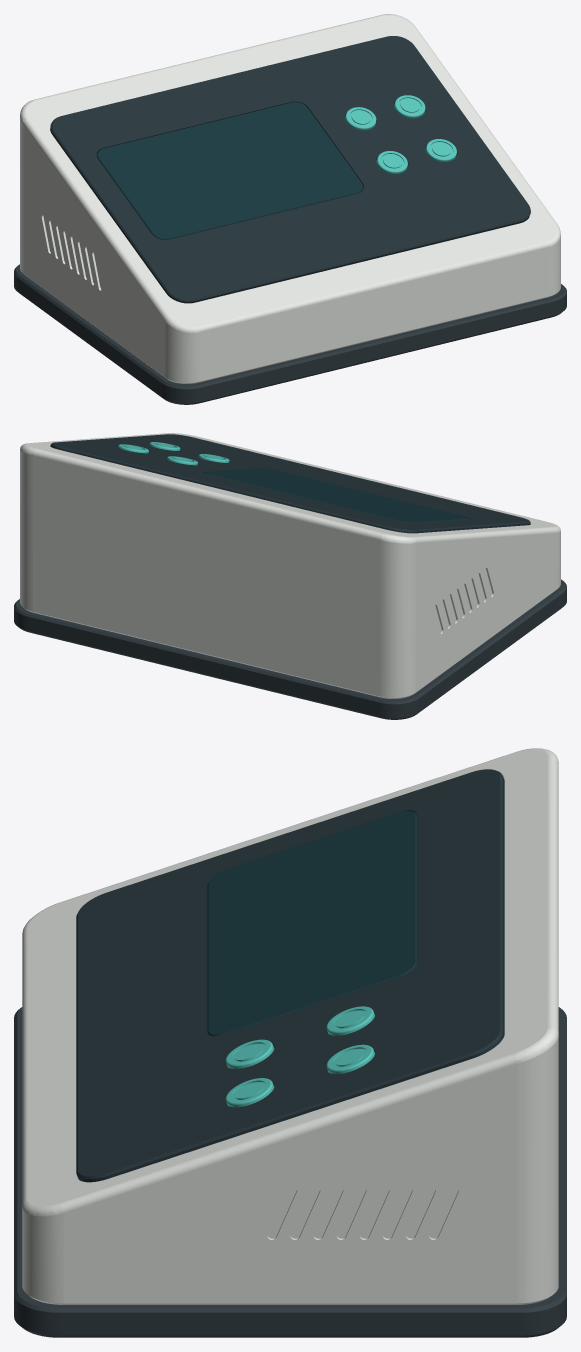
File: lm04-assembly.glb
The picture shows the model from 3 angles, top to bottom: view 1: azimuth 30°, elevation 25°; view 2: azimuth 150°, elevation 25°; view 3: azimuth 270°, elevation 25°; orthographic projection. The views are drawn at different scales.
Parts seen in each view (by area): view 1: housing, panel, screen, base, marker-1, marker-2, marker-4, marker-3; view 2: housing, base, panel, screen; view 3: housing, panel, screen, base, marker-3, marker-4, marker-2, marker-1.
Part boxes in pixels (x1,y1,x2,y2): housing: [20, 14, 560, 383]; panel: [50, 36, 530, 303]; screen: [96, 102, 363, 239]; base: [14, 264, 566, 404]; marker-1: [345, 107, 376, 130]; marker-2: [394, 95, 425, 118]; marker-4: [425, 139, 456, 161]; marker-3: [376, 151, 407, 173]; housing: [20, 433, 560, 698]; base: [14, 579, 566, 719]; panel: [50, 434, 530, 533]; screen: [204, 467, 469, 523]; housing: [22, 748, 558, 1304]; panel: [76, 769, 504, 1182]; screen: [207, 811, 417, 1036]; base: [14, 1007, 566, 1337]; marker-3: [225, 1039, 274, 1068]; marker-4: [225, 1078, 274, 1107]; marker-2: [326, 1044, 374, 1074]; marker-1: [326, 1006, 374, 1035].
Size of the model in its own units: 0.18 by 0.0778 by 0.134.
